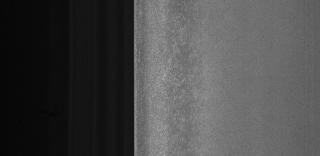silk spot: (168, 22, 212, 156)
